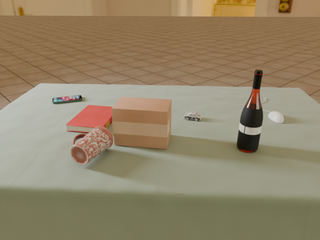book: (66, 105, 113, 133)
bottle: (237, 70, 263, 152)
box: (112, 97, 171, 149)
cup: (70, 126, 113, 165)
mouse: (268, 111, 284, 123)
phone: (53, 95, 82, 104)
toy_car: (184, 112, 202, 121)
